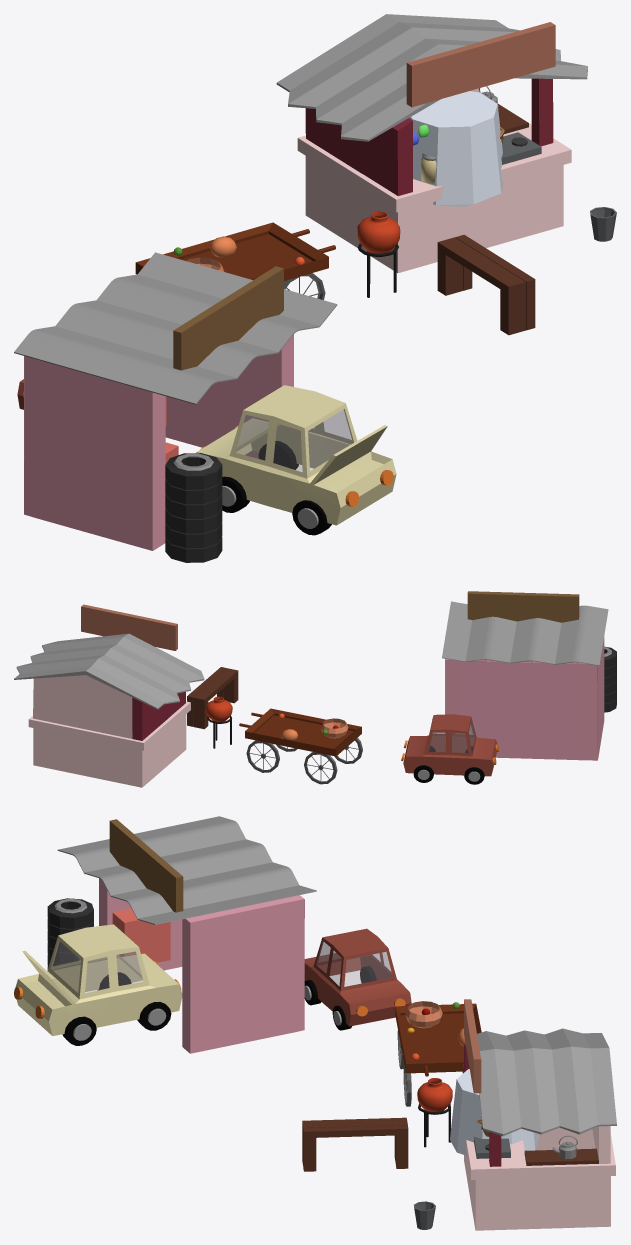
File: Commercial2 .fbx
3 views of the same model, one above another, from view 1: azimuth 30°, elevation 25°; view 2: azimuth 150°, elevation 25°; view 3: azimuth 270°, elevation 25° (orthographic). The views are drawn at different scales.
Parts seen in each view (by area): view 1: Mechanic shop, Tea shop, Car.002, Glass, tire stack, Cart, Seat, pot and stand, Dustbin; view 2: Mechanic shop, Tea shop, Car.001, Cart, Seat, tire stack, pot and stand, basket; view 3: Mechanic shop, Tea shop, Car.002, Car.001, Cart, Seat, Glass, tire stack, pot and stand, basket.
Boxes of the visible parts, x1,y1,x2,y2 form: Mechanic shop: (14,252,337,550); Tea shop: (276,14,587,273); Car.002: (196,385,396,535); Glass: (409,91,503,206); tire stack: (165,453,222,562); Cart: (135,222,335,300); Seat: (437,234,535,335); pot and stand: (357,211,400,297); Dustbin: (590,207,616,241); Mechanic shop: (442,591,608,760); Tea shop: (14,604,204,787); Car.001: (401,714,499,784); Cart: (239,708,362,784); Seat: (187,667,238,729); tire stack: (604,646,616,712); pot and stand: (205,696,232,748); basket: (321,718,348,738); Mechanic shop: (57,816,316,1053); Tea shop: (464,999,616,1230); Car.002: (14,924,182,1045); Car.001: (304,928,411,1030); Cart: (395,1003,481,1106); Seat: (302,1117,408,1171); Glass: (450,1069,538,1155); tire stack: (47,898,93,969); pot and stand: (417,1078,452,1147); basket: (405,1001,442,1028).
Bounding box in the file's own units: 232 × 60.96 × 197.
